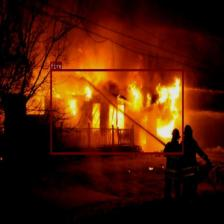fire: (50, 69, 183, 154)
